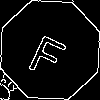F: (25, 25, 73, 80)
